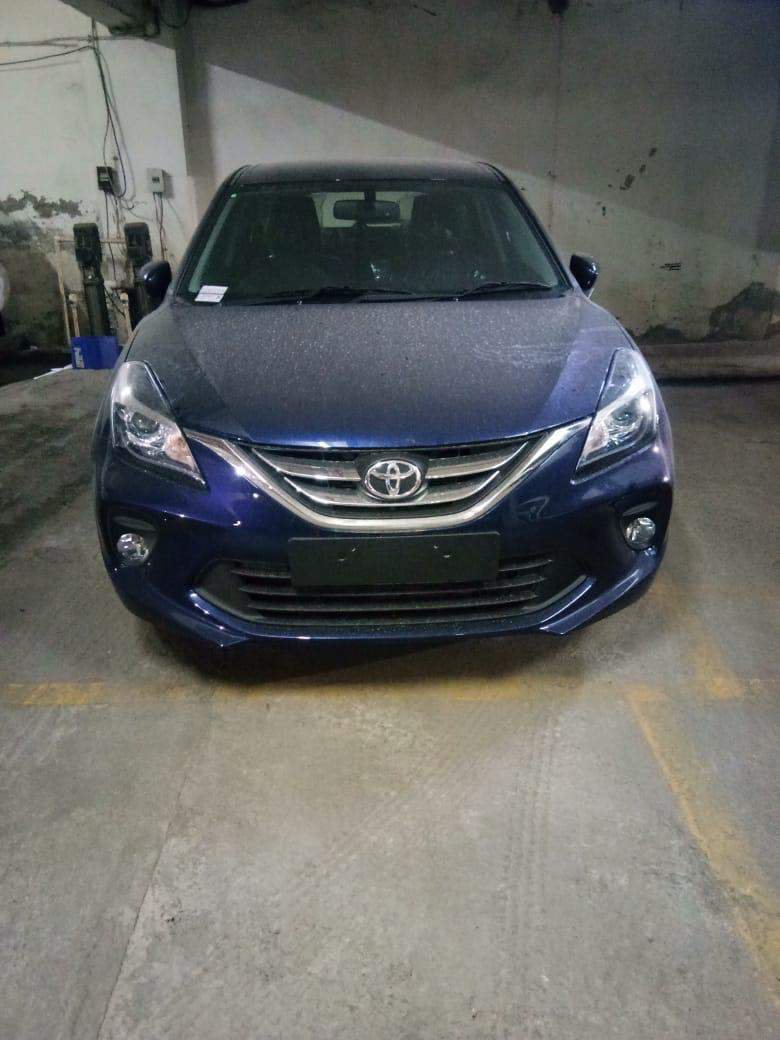car: (94, 147, 677, 673)
